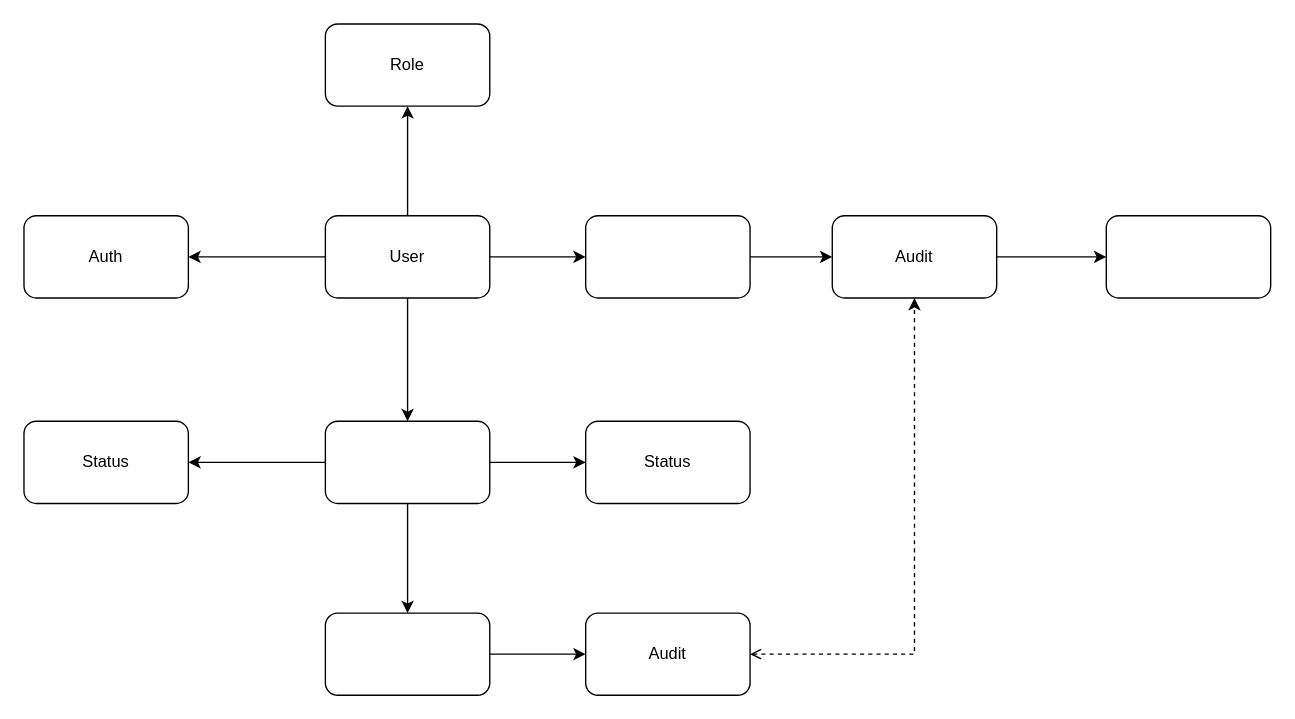
This 1295x719 diagram has some shape labels left out. Here are the shapes that lost their labels. From the top down, the centre of each, then its label:
(667,256): Account
(1188,256): Payment
(407,461): Task
(407,653): CostInfo
